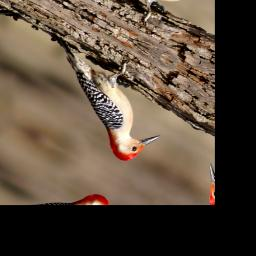Woodpecker: (24, 23, 183, 176)
